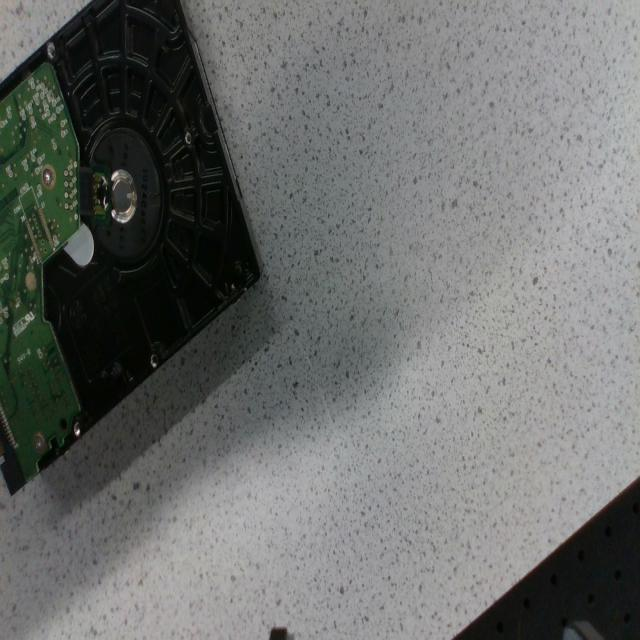case: (0, 0, 260, 493)
pcb: (0, 63, 79, 482)
screw: (42, 164, 56, 188), (34, 432, 46, 452)
